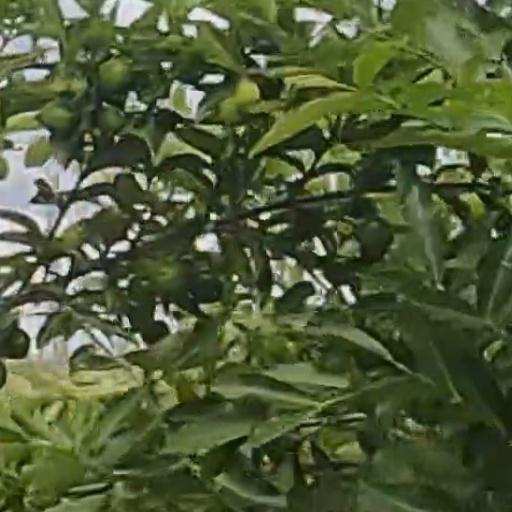acerola_verde: (153, 262, 190, 297), (100, 59, 128, 94)
